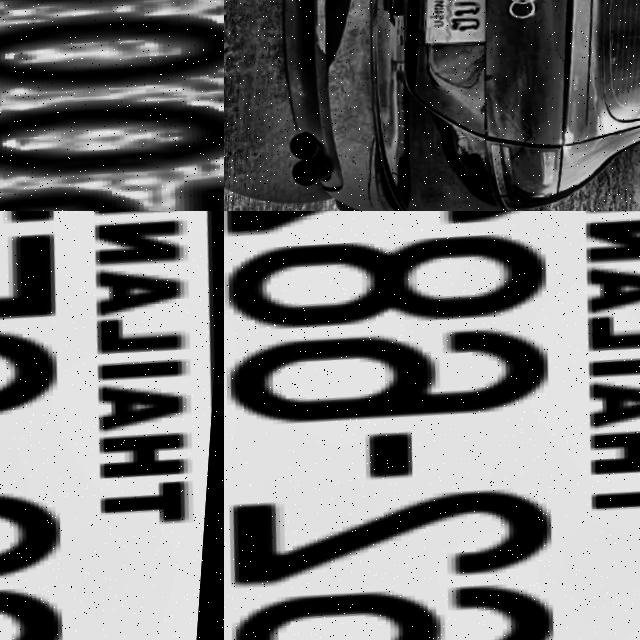license-plate: (224, 211, 640, 640), (0, 211, 224, 640), (0, 0, 224, 211), (416, 0, 503, 47)
